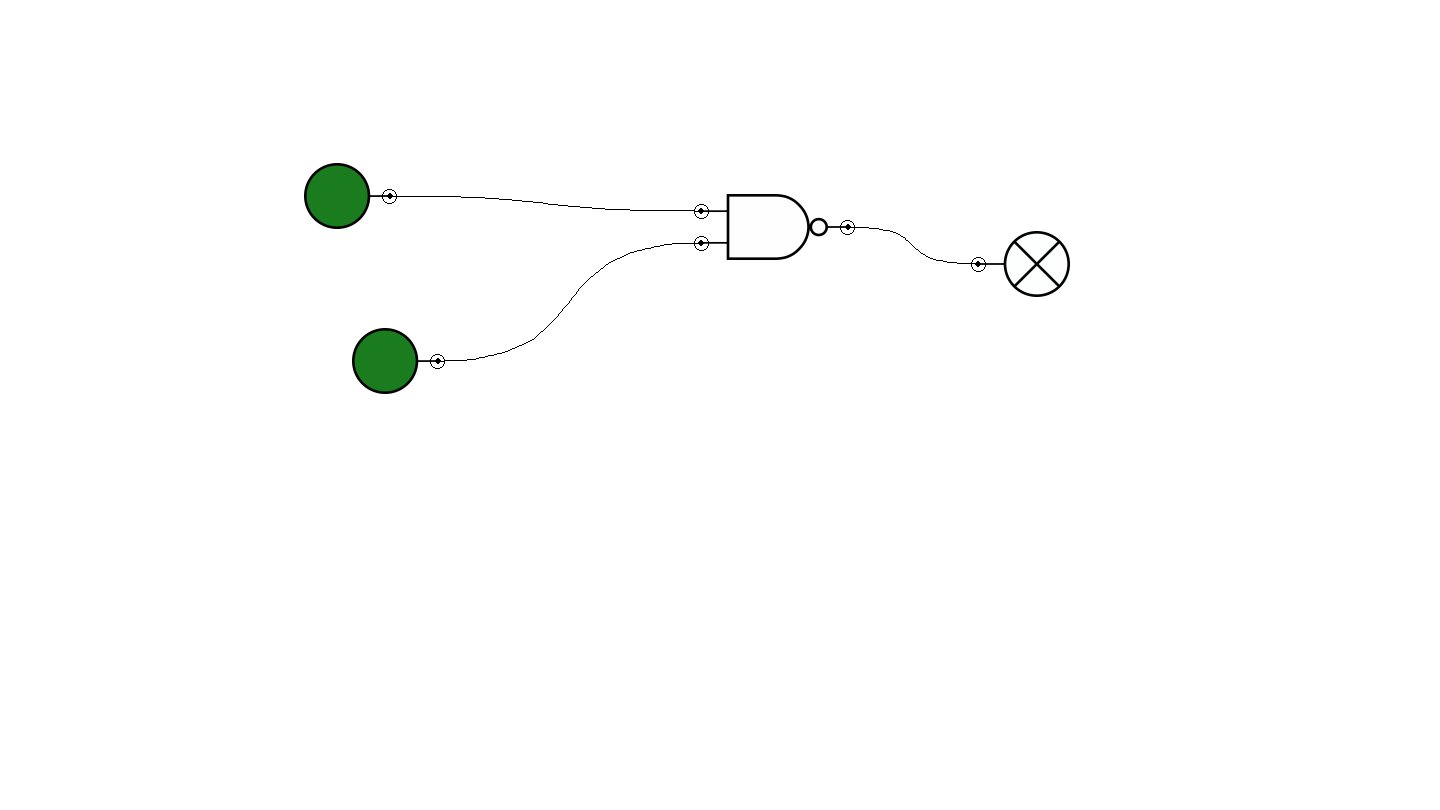bulb: (971, 231, 1070, 297)
nand: (694, 194, 855, 260)
switch_True: (352, 328, 445, 394), (304, 163, 397, 229)
